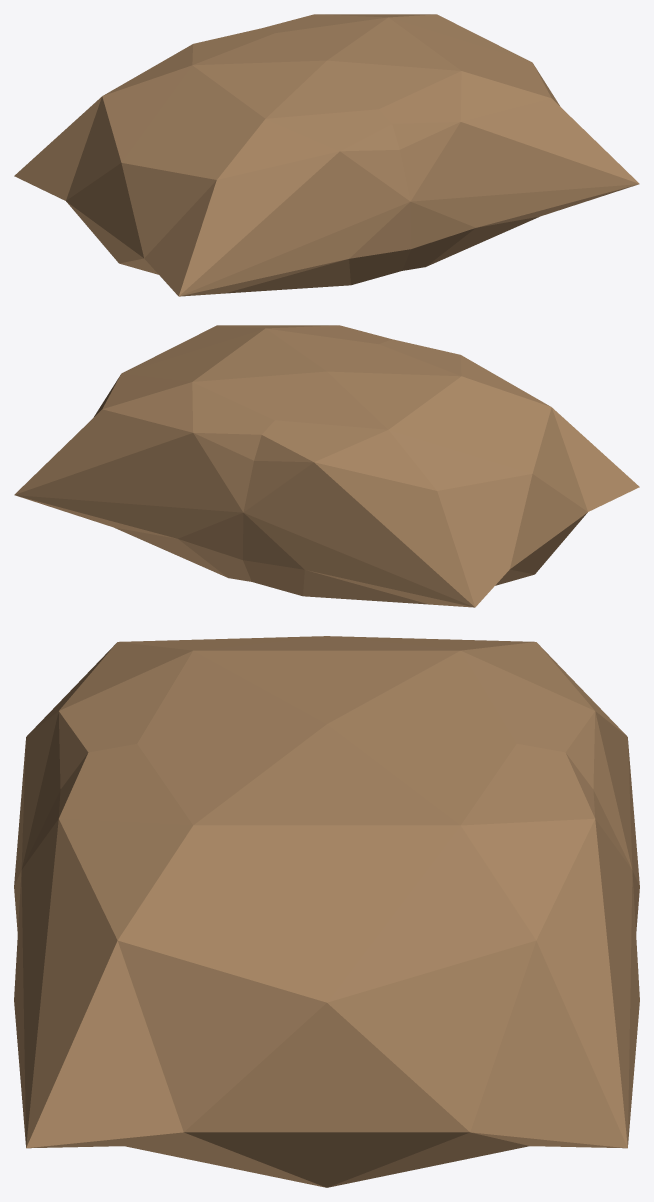
The model's file is sack_3.fbx.
3 renders of one model, top to bottom at view 1: azimuth 30°, elevation 25°; view 2: azimuth 150°, elevation 25°; view 3: azimuth 270°, elevation 25°, orthographic. The views are drawn at different scales.
Visible parts, largest first — view 1: sack.003; view 2: sack.003; view 3: sack.003.
Boxes of the visible parts, box(x1,y1,x2,y2) form: sack.003: box(14, 14, 639, 296); sack.003: box(14, 325, 639, 607); sack.003: box(14, 636, 639, 1187).
Size of the model in its own units: 201 by 79.89 by 129.
